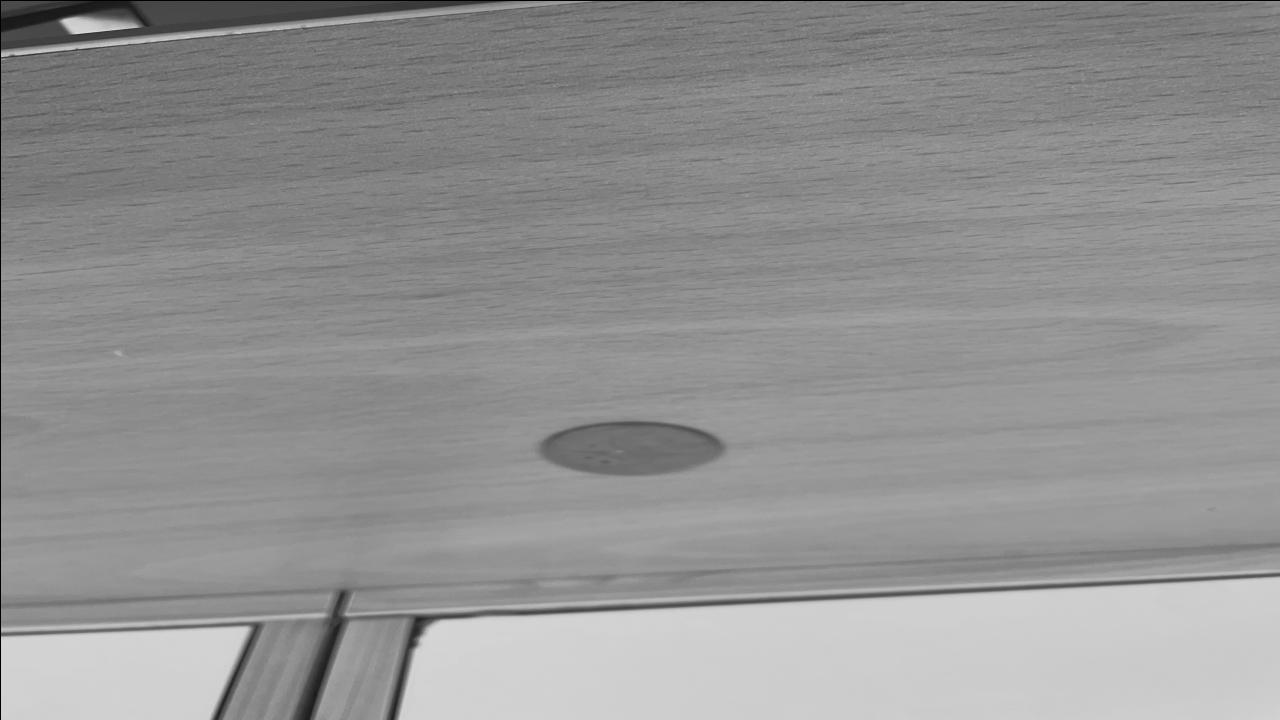coin: (537, 419, 730, 479)
